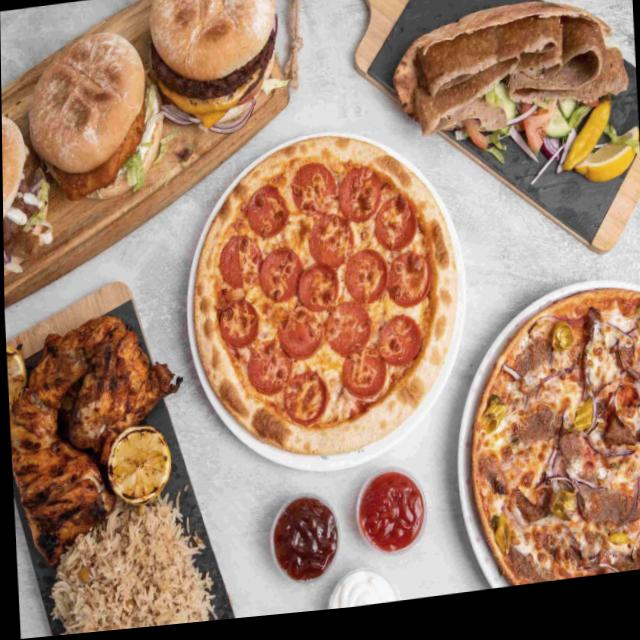burger: (25, 24, 161, 209), (145, 0, 285, 136), (1, 94, 57, 280)
pizza: (183, 124, 465, 477), (458, 296, 640, 601)
